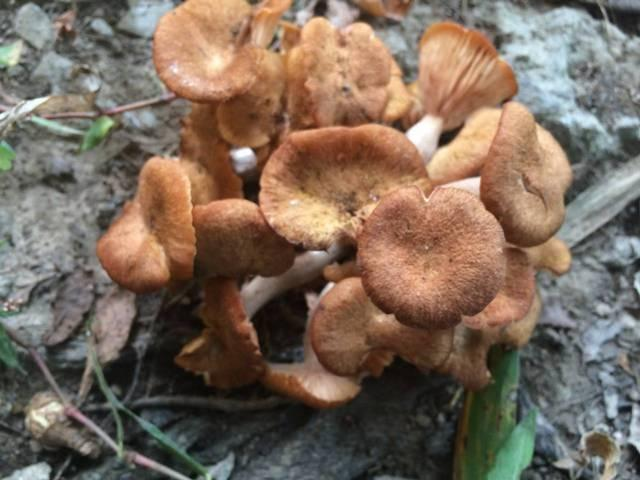Edible Mushroom: (95, 0, 574, 408)
